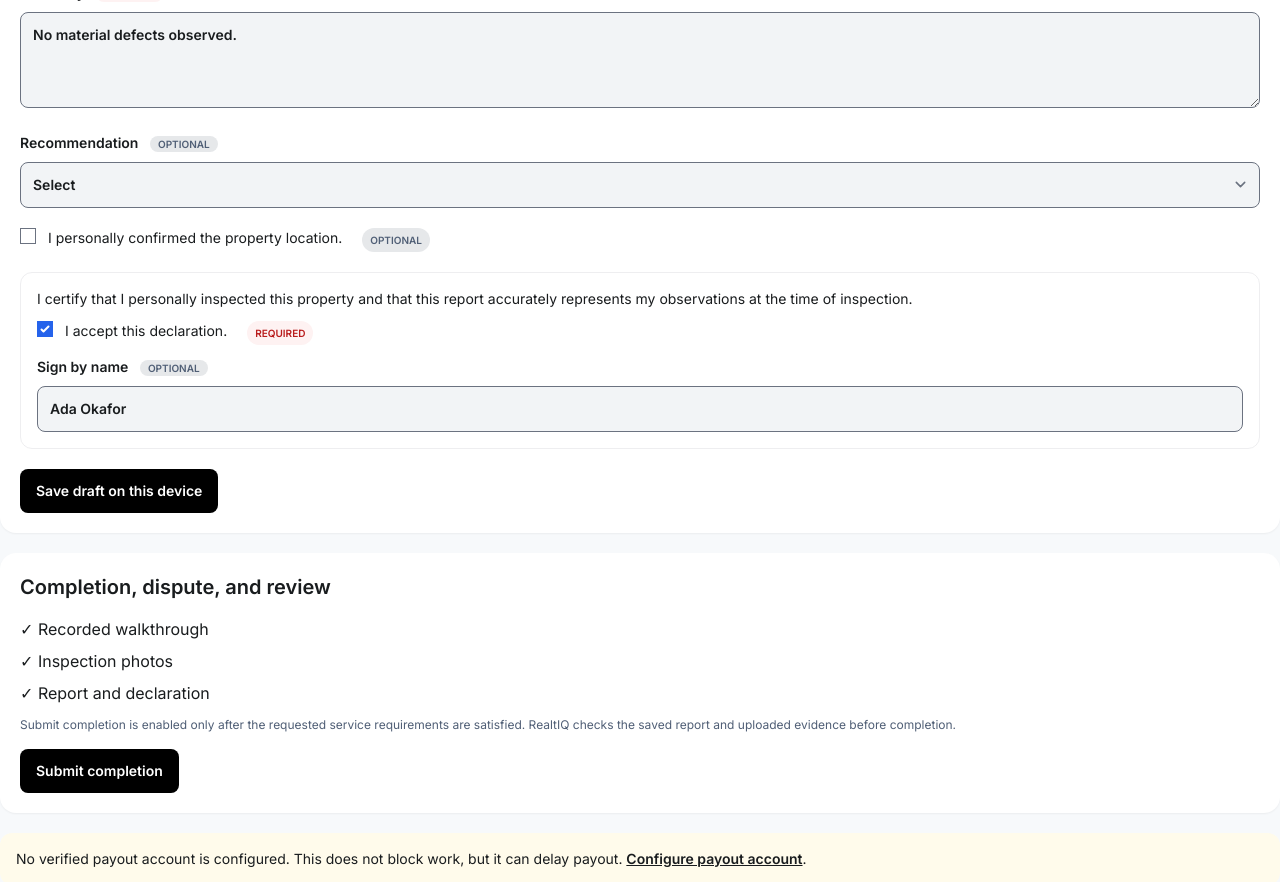
Scenario: ProxyWorkspace pricing display › saves the report before completion and displays authoritative 422 missing fields
This screenshot has width=1280, height=882.
(page scrolled)
Click the button "Submit completion" at (99, 771), box [20,749,179,793]
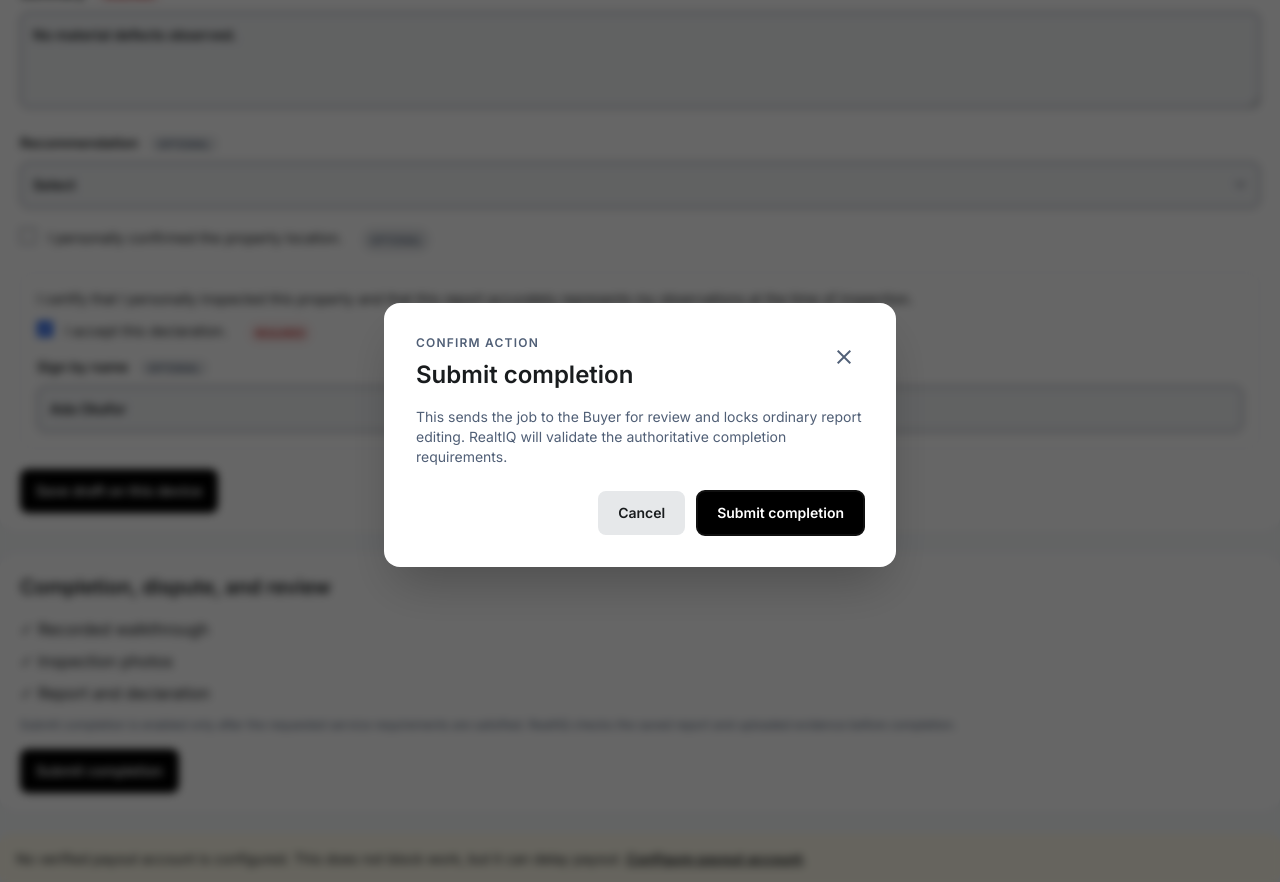
Click the button "Submit completion" at (781, 513), box [697,491,864,535]
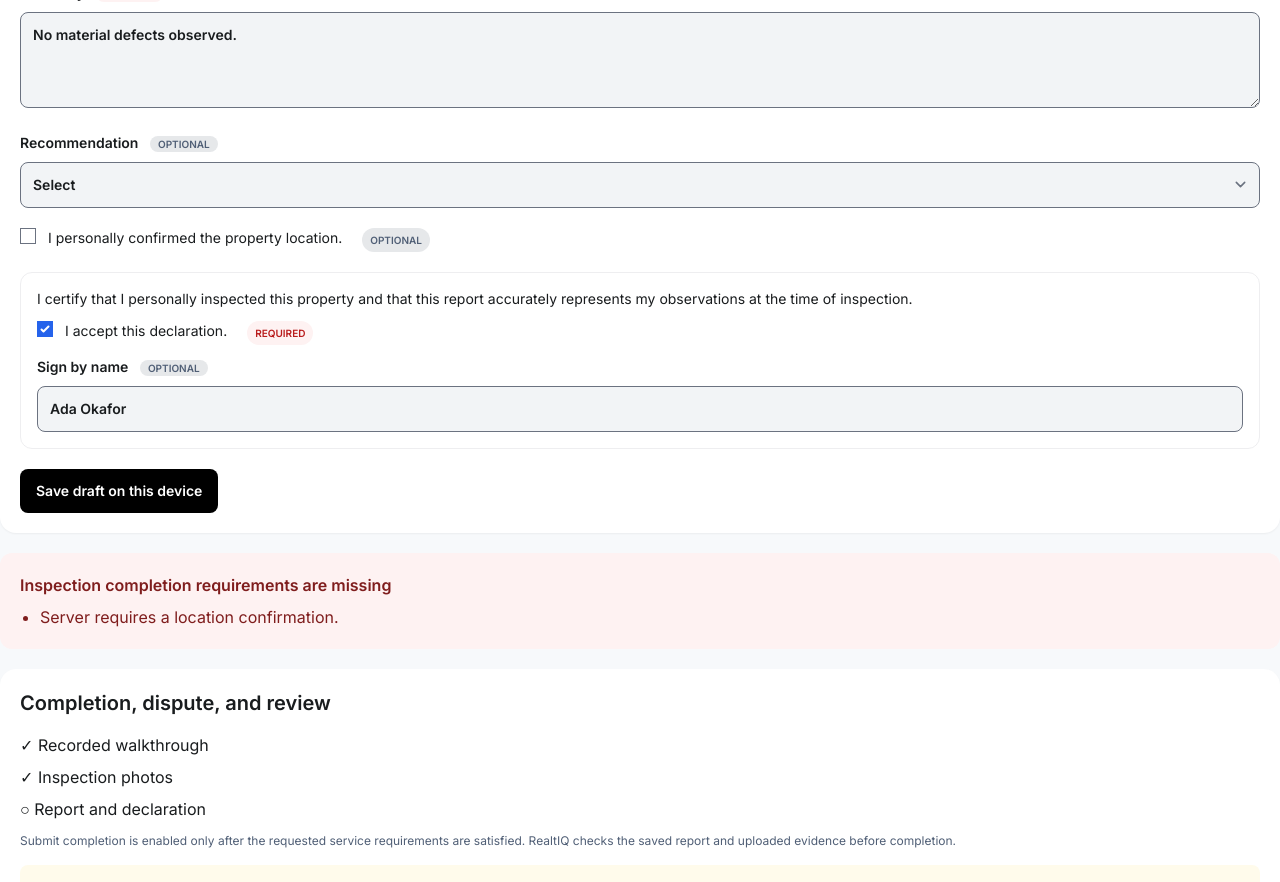
Check: the list item "Server requires a location confirmation." is shown, box [40,607,339,627]
